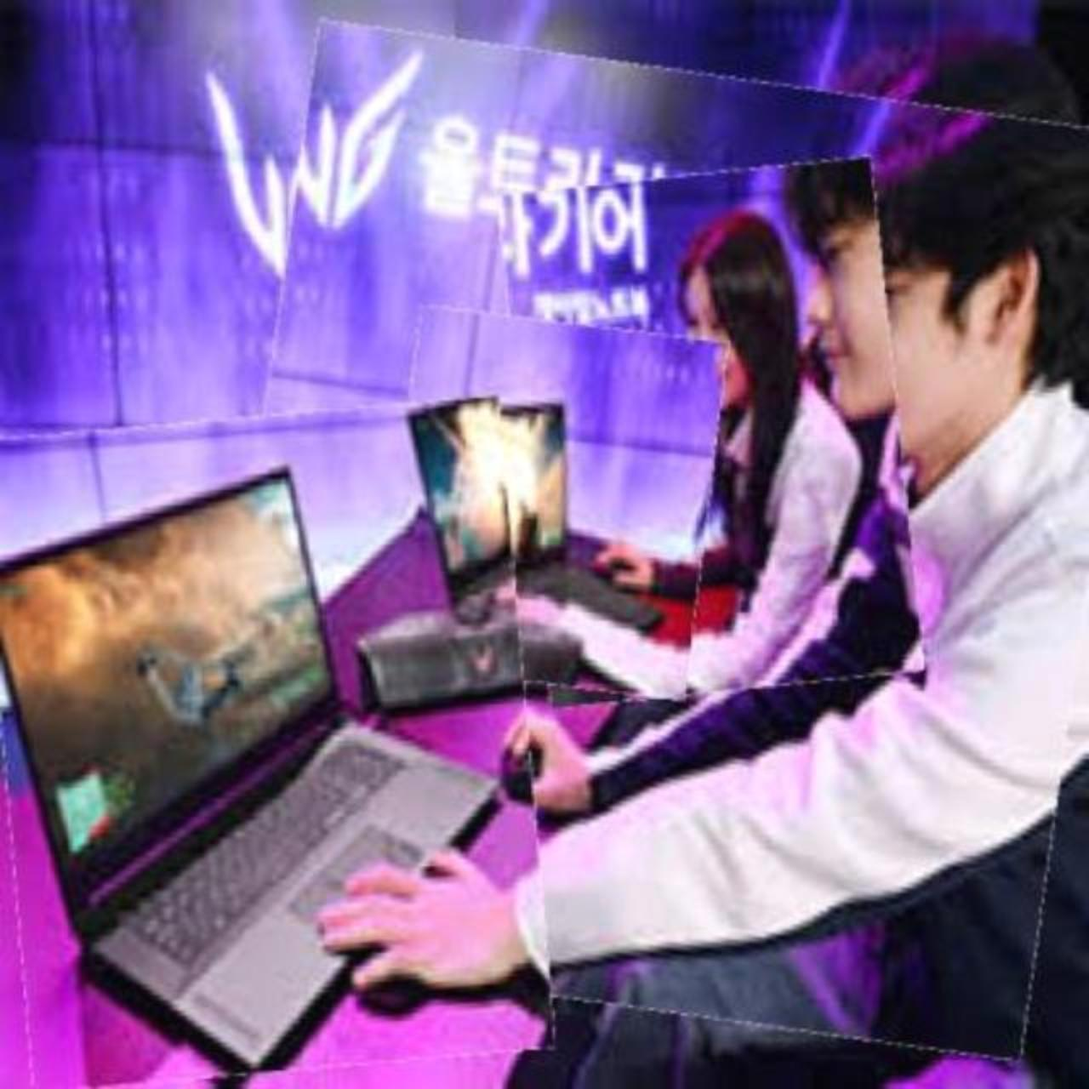laptop: (0, 405, 541, 1082), (389, 316, 717, 692)
